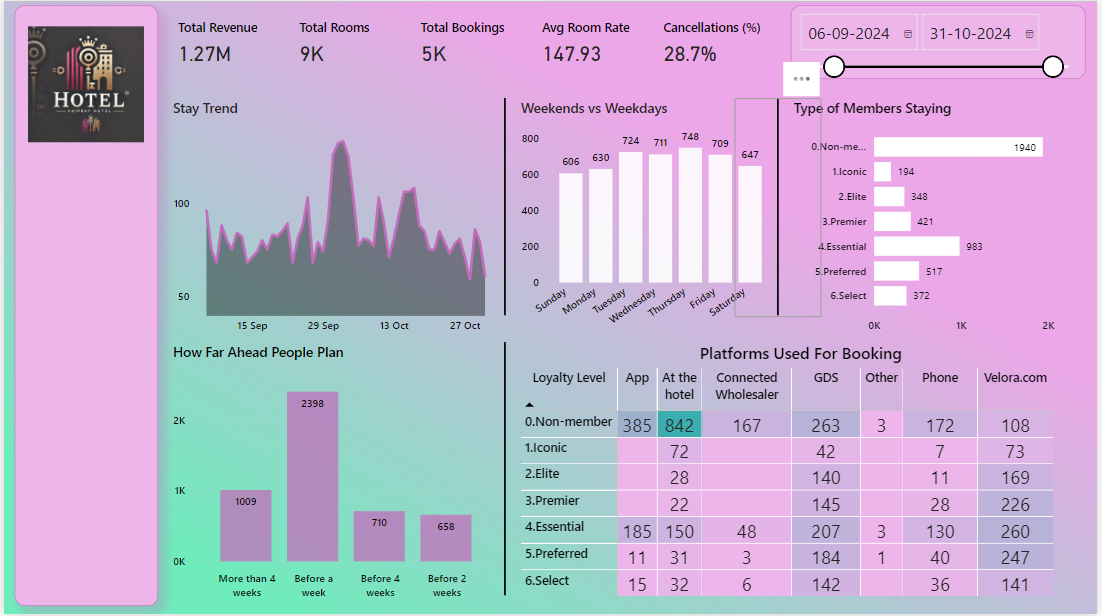

The page's visual inventory and layout, read from the dashboard file:
{"tool":"powerbi","page":{"name":"Page 1","canvas":[1280,720],"ordinal":0},"visuals":[{"type":"cardVisual","fields":{"Data":["Sheet1.Total_revenue","Sheet1.Total room nights","Sheet1.Booking count","Sheet1.Avg room rate","Sheet1.cancellation pct"]},"box":[193.2,0,713.6,100],"z":0},{"type":"lineChart","title":"Stay Trend","fields":{"Category":["Sheet1.Stay Date"],"Y":["Sheet1.Booking count"]},"box":[193.2,116.9,393.2,284.7],"z":1000},{"type":"slicer","fields":{"Values":["Sheet1.Stay Date"]},"box":[920.7,6.5,345.1,86.7],"z":2000},{"type":"clusteredColumnChart","title":"Weekends vs Weekdays","fields":{"Category":["Sheet1.Day of stay"],"Y":["Sheet1.Booking count"]},"box":[600,116.9,306.8,284.7],"z":3000},{"type":"textbox","box":[11.9,6.8,167.8,703.4],"z":4000},{"type":"clusteredBarChart","title":"Type of Members Staying","fields":{"Category":["Sheet1.Loyalty Level"],"Y":["Sheet1.Booking count"]},"box":[920.3,116.9,345.8,284.7],"z":5000},{"type":"clusteredColumnChart","title":"How Far Ahead People Plan","fields":{"Y":["Sheet1.Booking count"],"Category":["Sheet1.bucket"]},"box":[193.2,401.7,393.2,308.5],"z":5001},{"type":"shape","box":[535.6,116.9,101.7,254.2],"z":5002},{"type":"shape","box":[855.9,116.9,101.7,254.2],"z":5004},{"type":"shape","box":[535.6,401.7,101.7,296.6],"z":5005},{"type":"image","box":[20.3,27.1,152.5,145.8],"z":5008},{"type":"pivotTable","title":"Platforms Used For Booking","fields":{"Rows":["Sheet1.Loyalty Level"],"Columns":["Sheet1.Booking Channel"],"Values":["Sheet1.Booking count"]},"box":[600,401.7,666.1,318.6],"z":5009}]}

Visuals, with their boxes in screenshot pixels (x1, y1, x2, y2), scaled from the page's 1280x720 canvas onto the 1102x616 screenshot:
cardVisual - Sheet1.Total_revenue x Sheet1.Total room nights: (166,0,781,86)
"Stay Trend" lineChart: (166,100,505,344)
slicer - Sheet1.Stay Date: (793,6,1090,80)
"Weekends vs Weekdays" clusteredColumnChart: (517,100,781,344)
textbox: (10,6,155,608)
"Type of Members Staying" clusteredBarChart: (792,100,1090,344)
"How Far Ahead People Plan" clusteredColumnChart: (166,344,505,608)
shape: (461,100,549,317)
shape: (737,100,824,317)
shape: (461,344,549,597)
image: (17,23,149,148)
"Platforms Used For Booking" pivotTable: (517,344,1090,615)
